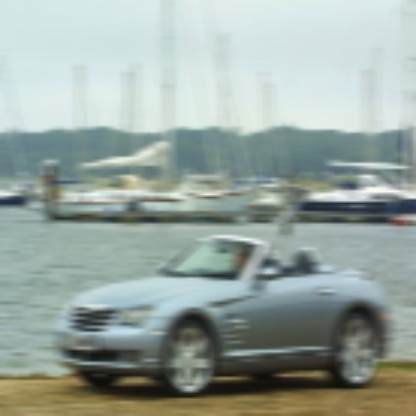Vehicle: (56, 234, 393, 400)
